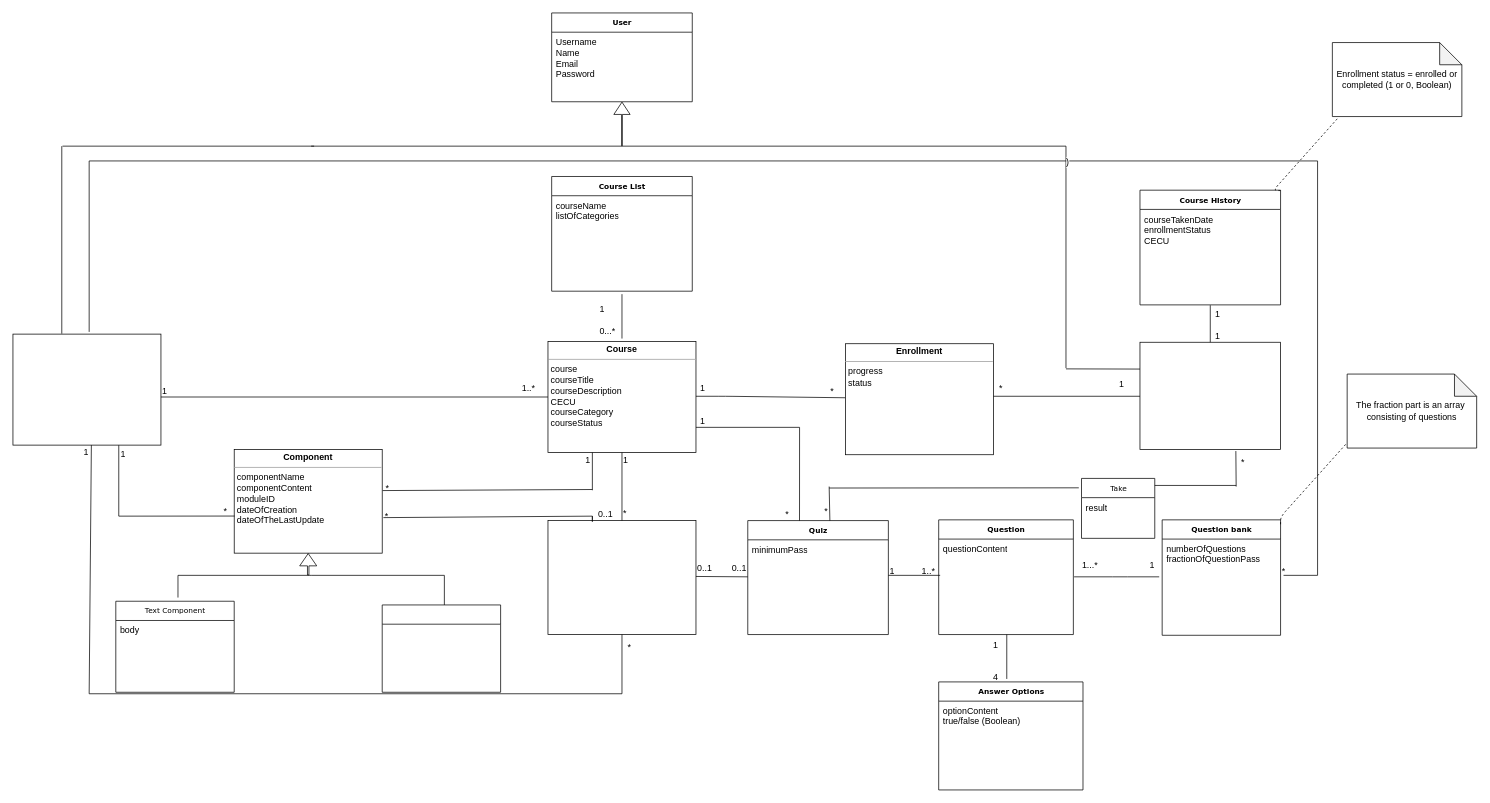
Image size: 1490x803. Some labels were removed from this diagram. Here are the shapes that lost their labels. From the top down, the centre of each, then its label:
At (86,389): "Instructor".
At (1210,396): "Learner".
At (621,577): "Module moduleTitle modulePosition".
At (441,648): "Image Component".
